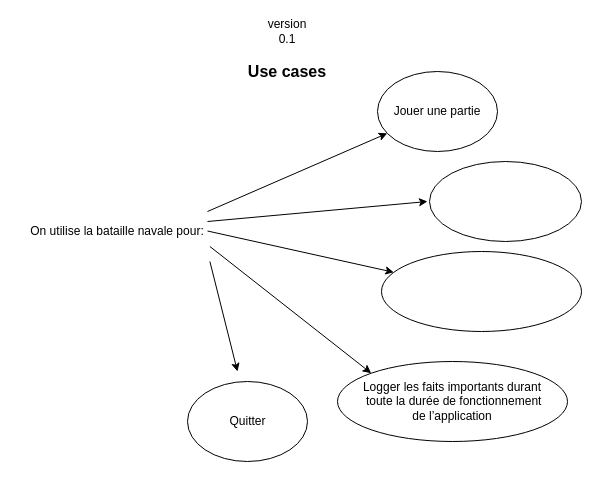
The diagram is 614 pixels wide and 479 high, and some of its shapes have lost their labels. The shapes that lost their labels are listed below. From the top down, each one's centre as x and y in pixels, then its label:
At (x=505, y=201): "Afficher l'aide du jeu".
At (x=481, y=291): "Afficher la liste des scores atteints".
